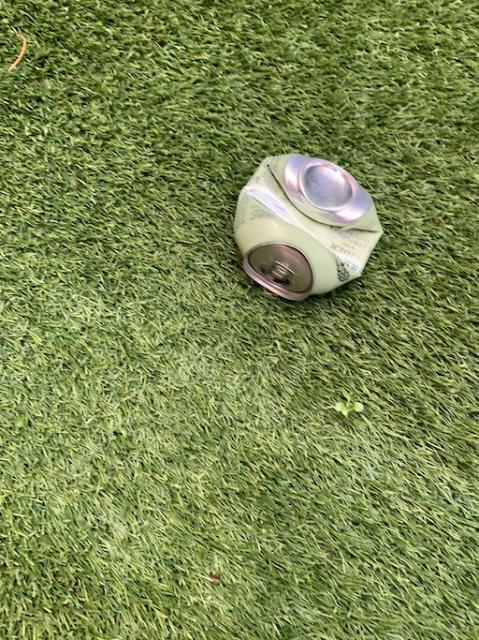metal: (233, 153, 380, 298)
